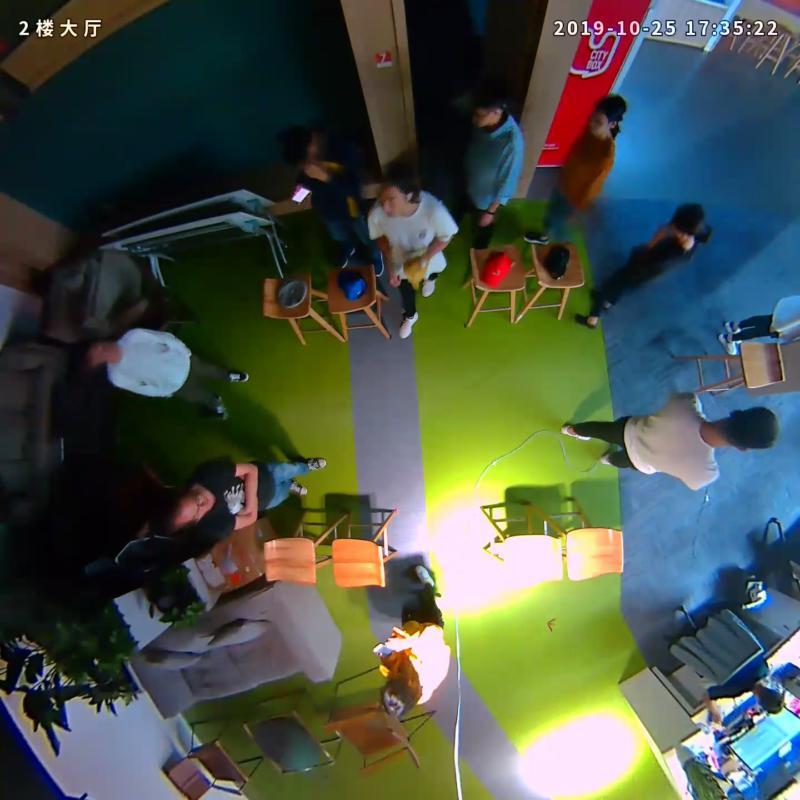head: (148, 487, 212, 534), (722, 406, 781, 453), (279, 125, 333, 170), (377, 163, 419, 219), (588, 95, 628, 140), (380, 676, 420, 717), (465, 89, 504, 129), (76, 339, 123, 372), (669, 203, 707, 240)
